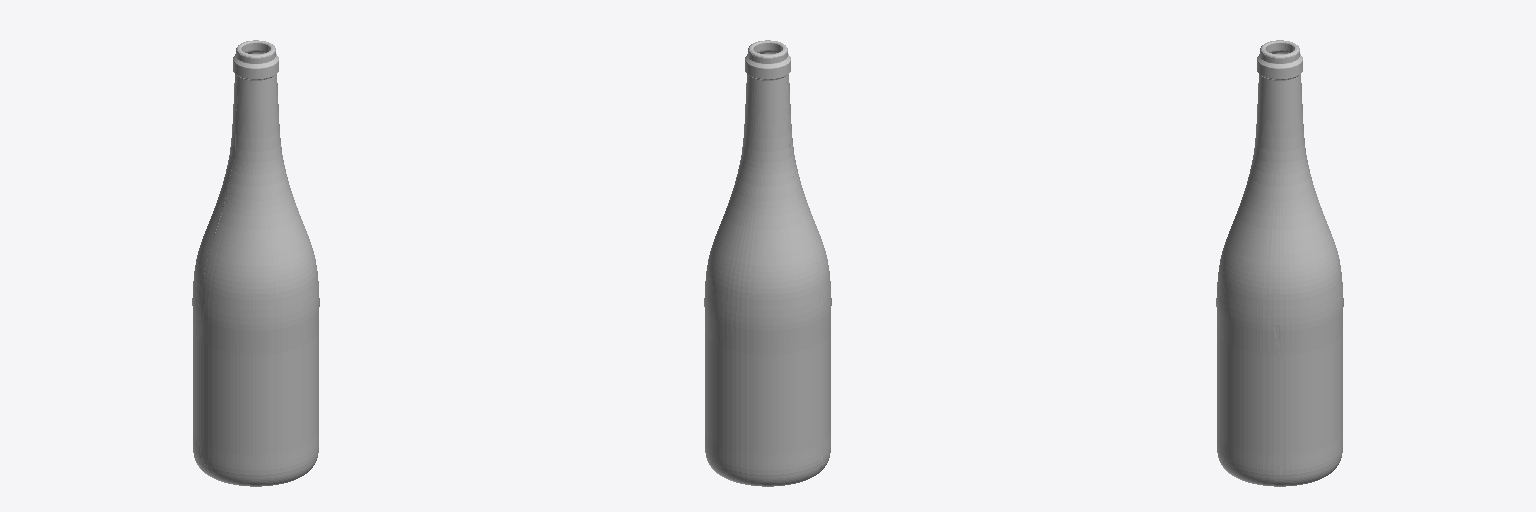
Rendered from glassBottle.obj.
3 views of the same model, side by side, from view 1: azimuth 30°, elevation 25°; view 2: azimuth 150°, elevation 25°; view 3: azimuth 270°, elevation 25° (orthographic).
Visible parts, largest first — view 1: BOTTLE_HIGH_POLY.001; view 2: BOTTLE_HIGH_POLY.001; view 3: BOTTLE_HIGH_POLY.001.
Boxes of the visible parts, x1,y1,x2,y2 form: BOTTLE_HIGH_POLY.001: [192, 40, 319, 486]; BOTTLE_HIGH_POLY.001: [704, 40, 831, 486]; BOTTLE_HIGH_POLY.001: [1216, 40, 1343, 486].
Size of the model in its own units: 0.8006 by 2.89 by 0.8006.